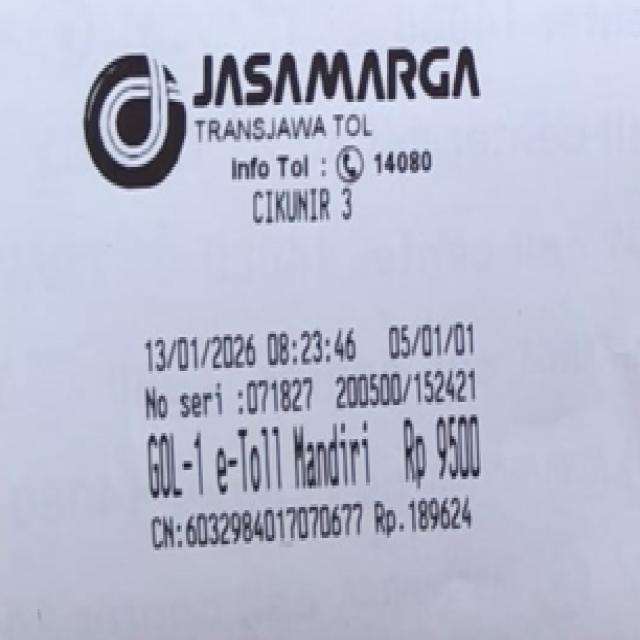date: (142, 330, 368, 369)
store: (192, 40, 480, 137)
total: (391, 414, 502, 484)
